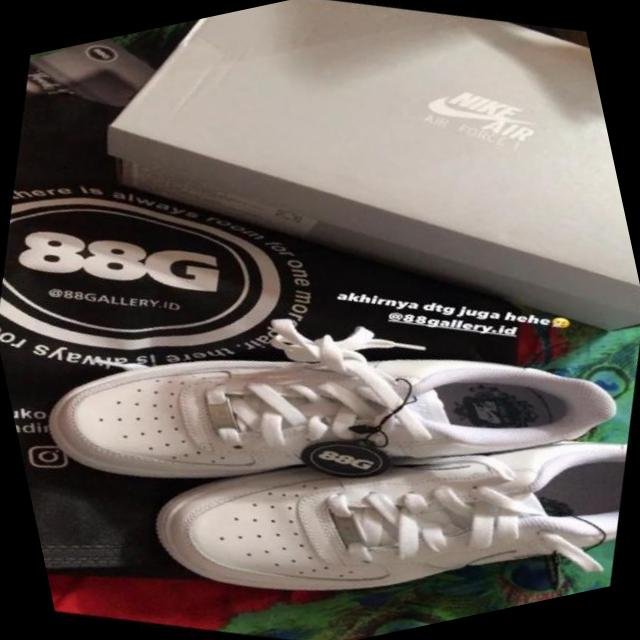nike_original_airforce: (10, 194, 640, 640), (113, 297, 640, 640)
